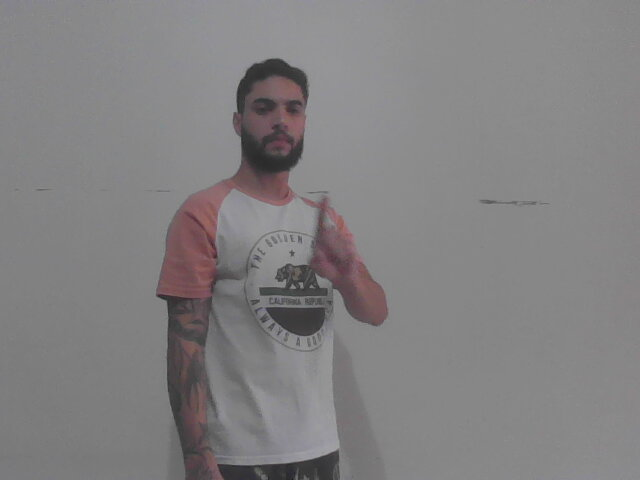z: (302, 187, 365, 289)
